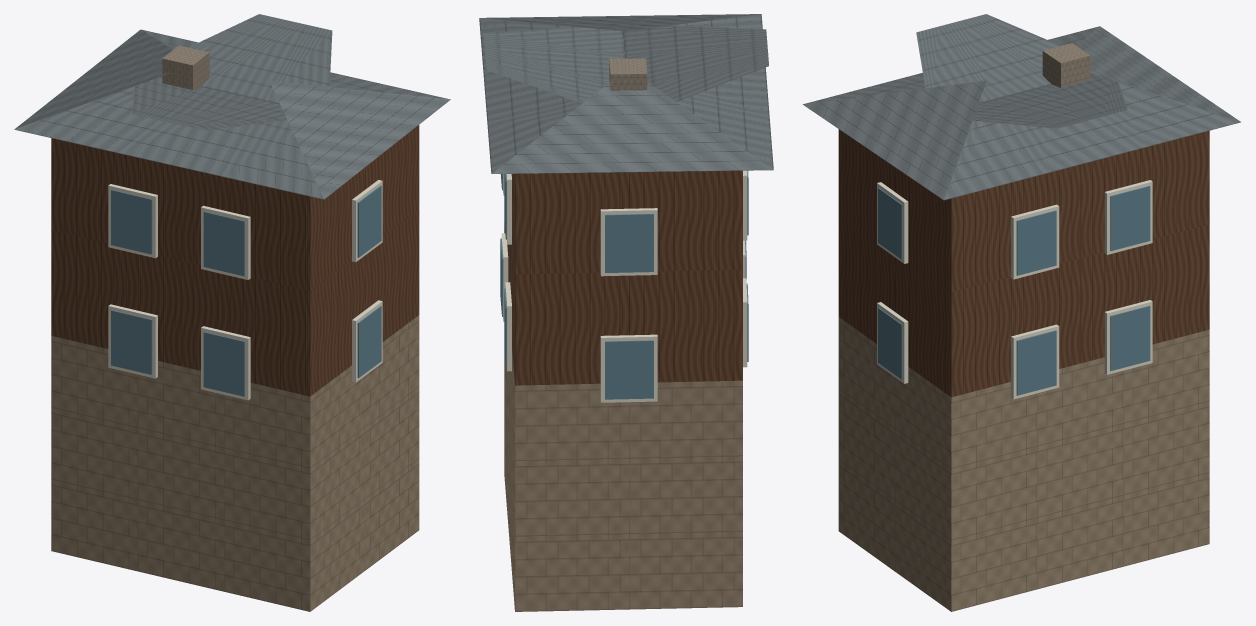
File: core_0111.gltf
3 renders of one model, left to right at view 1: azimuth 30°, elevation 25°; view 2: azimuth 150°, elevation 25°; view 3: azimuth 270°, elevation 25°, orthographic. The views are drawn at different scales.
Parts seen in each view (by area): view 1: core_0111; view 2: core_0111; view 3: core_0111.
Boxes of the visible parts, left/top/right/bottom form: core_0111: left=14, top=14, right=450, bottom=611; core_0111: left=479, top=14, right=773, bottom=611; core_0111: left=803, top=14, right=1240, bottom=611.
Size of the model in its own units: 8.88 by 11.25 by 9.46.
6 materials, 6 textured.
